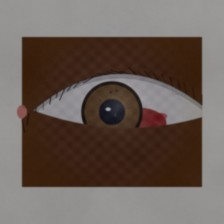hemorrhage_spot: (96, 91, 178, 156)
